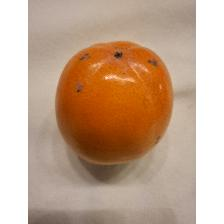Kaki: (52, 36, 176, 168)
